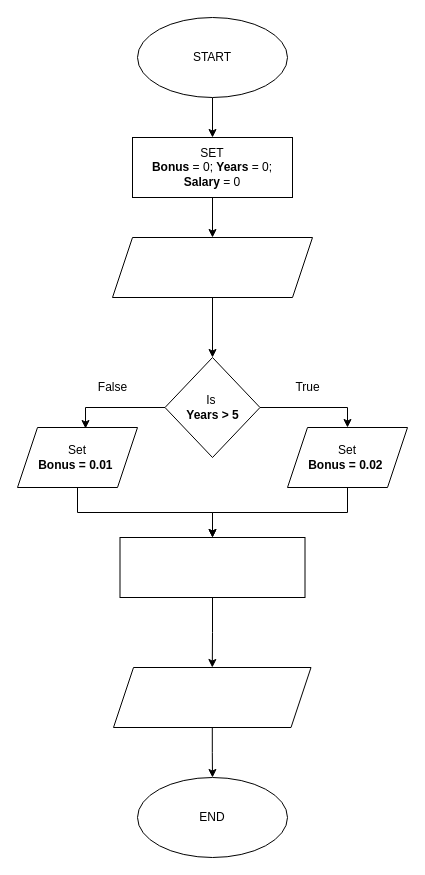
This 425x875 diagram has some shape labels left out. Here are the shapes that lost their labels. From the top down, the box of each, then its label:
(112, 236, 312, 298): User to input Years employee has been employed and their respective Salary
(119, 536, 305, 598): Calculate bonus-value Bonus * Salary = bonus-value
(112, 666, 311, 728): Display: "Congratulations! Your bonus is $<bonus-value>."
